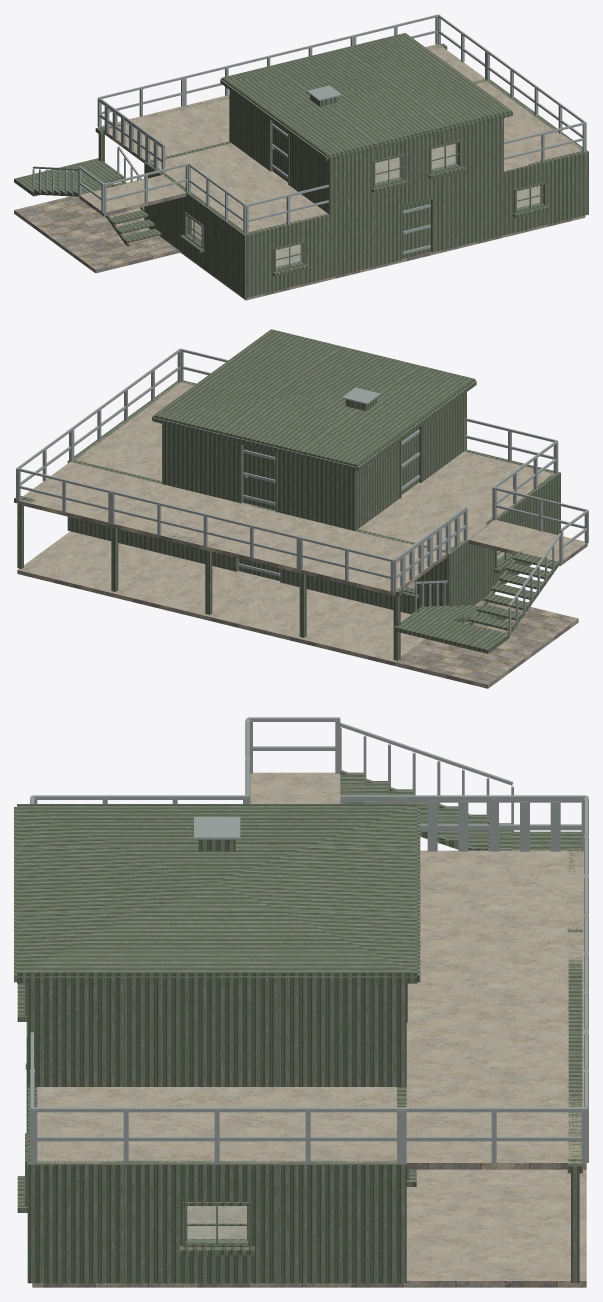
The model's file is cyclone-operations.gltf.
3 views of the same model, one above another, from view 1: azimuth 30°, elevation 25°; view 2: azimuth 150°, elevation 25°; view 3: azimuth 270°, elevation 25° (orthographic). The views are drawn at different scales.
Parts seen in each view (by area): view 1: exterior-L0-metal, roof-L2-metal, floor-L1-plaster, exterior-L1-metal, guards-L1-iron, floor-L0-stone, stairs-L0-metal, datum-band-L0-metal, facade-trim-L0-metal, roof-trim-L2-metal, door-L0-metal, facade-trim-L1-metal (+8 smaller); view 2: floor-L1-plaster, roof-L2-metal, floor-L0-plaster, exterior-L1-metal, guards-L1-iron, exterior-L0-metal, floor-L0-stone, stairs-L0-metal, structure-L0-metal, door-L1-metal (×2), floor-L1-stone, datum-band-L0-metal (+3 smaller); view 3: floor-L1-plaster, roof-L2-metal, exterior-L0-metal, exterior-L1-metal, floor-L0-plaster, guards-L1-iron, datum-band-L0-metal, roof-trim-L2-metal, stairs-L0-metal, structure-L0-metal, floor-L0-stone, facade-trim-L0-metal (+4 smaller).
Part boxes in pixels (x1,y1,x2,y2): exterior-L0-metal: (144, 155, 588, 298); roof-L2-metal: (221, 33, 511, 156); floor-L1-plaster: (81, 44, 582, 231); exterior-L1-metal: (229, 90, 503, 214); guards-L1-iron: (78, 14, 586, 234); floor-L0-stone: (14, 196, 585, 300); stairs-L0-metal: (14, 158, 161, 245); datum-band-L0-metal: (144, 79, 588, 239); facade-trim-L0-metal: (180, 182, 549, 276); roof-trim-L2-metal: (220, 78, 512, 160); door-L0-metal: (401, 200, 430, 258); facade-trim-L1-metal: (371, 140, 464, 192); floor-L1-plaster: (20, 381, 585, 591); roof-L2-metal: (153, 329, 475, 466); floor-L0-plaster: (18, 531, 504, 661); exterior-L1-metal: (162, 392, 466, 530); guards-L1-iron: (16, 348, 588, 592); exterior-L0-metal: (67, 476, 560, 614); floor-L0-stone: (17, 564, 578, 688); stairs-L0-metal: (394, 551, 560, 653); structure-L0-metal: (14, 496, 403, 660); door-L1-metal (×2): (243, 427, 418, 510); floor-L1-stone: (17, 501, 587, 595); datum-band-L0-metal: (67, 380, 560, 557); floor-L1-plaster: (36, 772, 583, 1162); roof-L2-metal: (17, 804, 417, 975); exterior-L0-metal: (27, 1171, 406, 1283); exterior-L1-metal: (27, 983, 406, 1086); floor-L0-plaster: (187, 1169, 586, 1280); guards-L1-iron: (30, 717, 588, 1163); datum-band-L0-metal: (27, 1087, 406, 1171); roof-trim-L2-metal: (14, 807, 420, 983); stairs-L0-metal: (340, 770, 581, 850); structure-L0-metal: (567, 847, 582, 1282); floor-L0-stone: (32, 1281, 586, 1287); facade-trim-L0-metal: (17, 983, 416, 1255).
Size of the model in its own units: 15.28 by 4.76 by 9.34.
5 materials, 3 textured.
